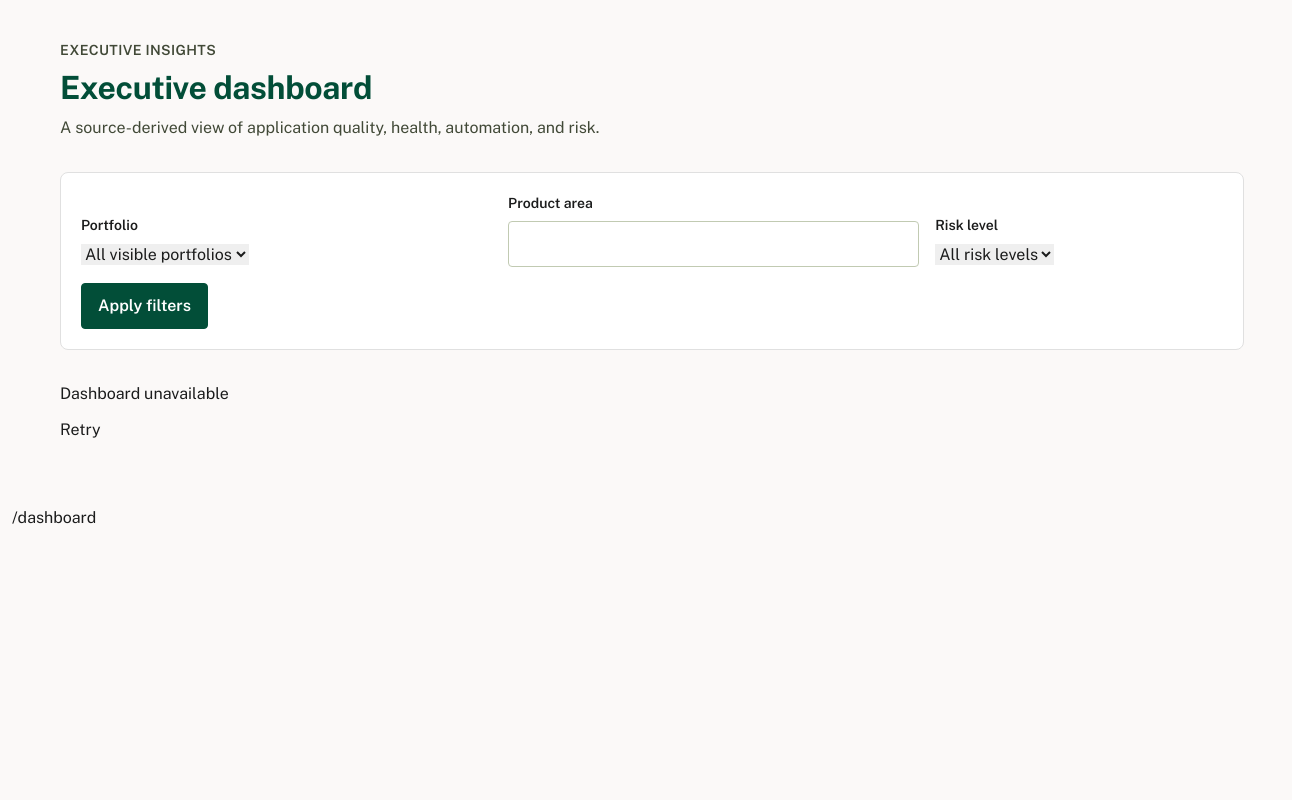
Test: DashboardPage › shows an error with a retry action after a failed API request
Expected: the message shows "Dashboard unavailable", [60, 384, 229, 403]
Click the button "Retry": (80, 430) [60, 418, 100, 442]
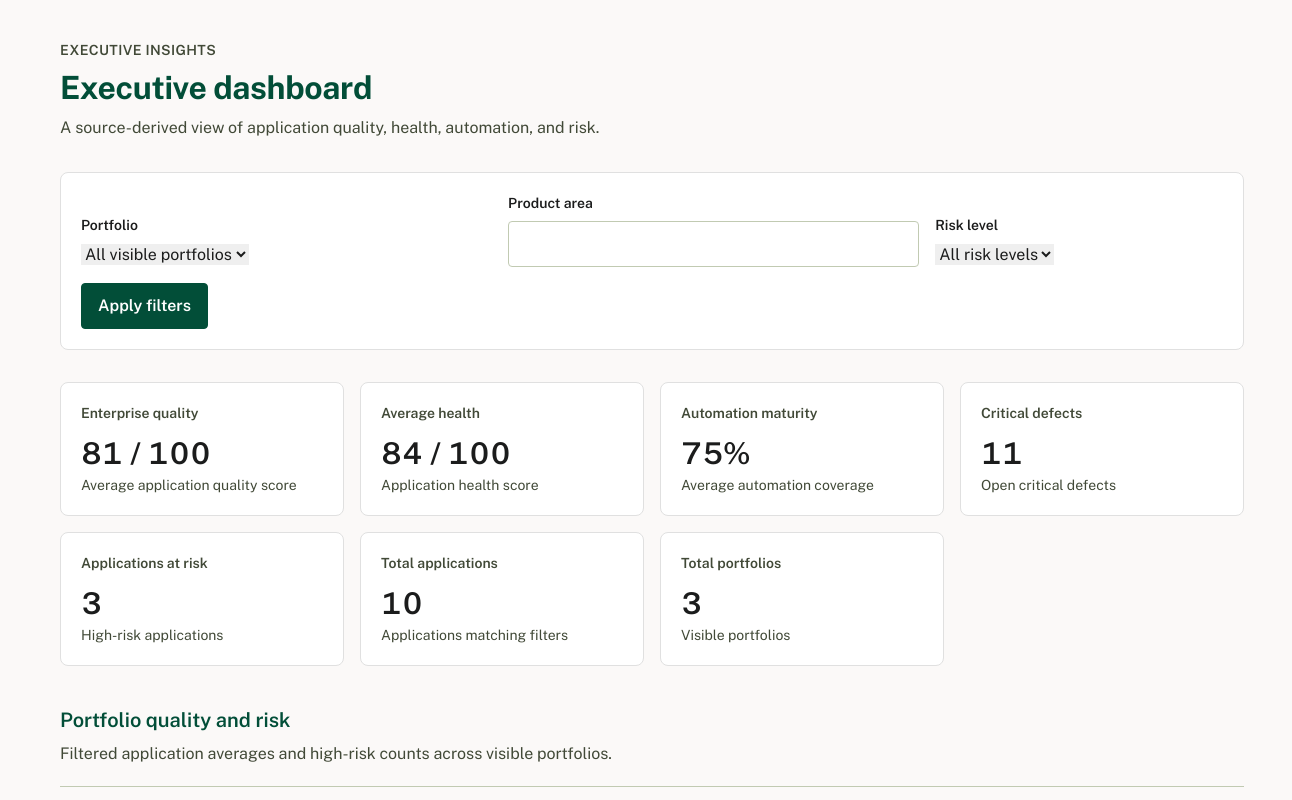
Now the text "81 / 100" is shown, box [81, 435, 211, 471]
